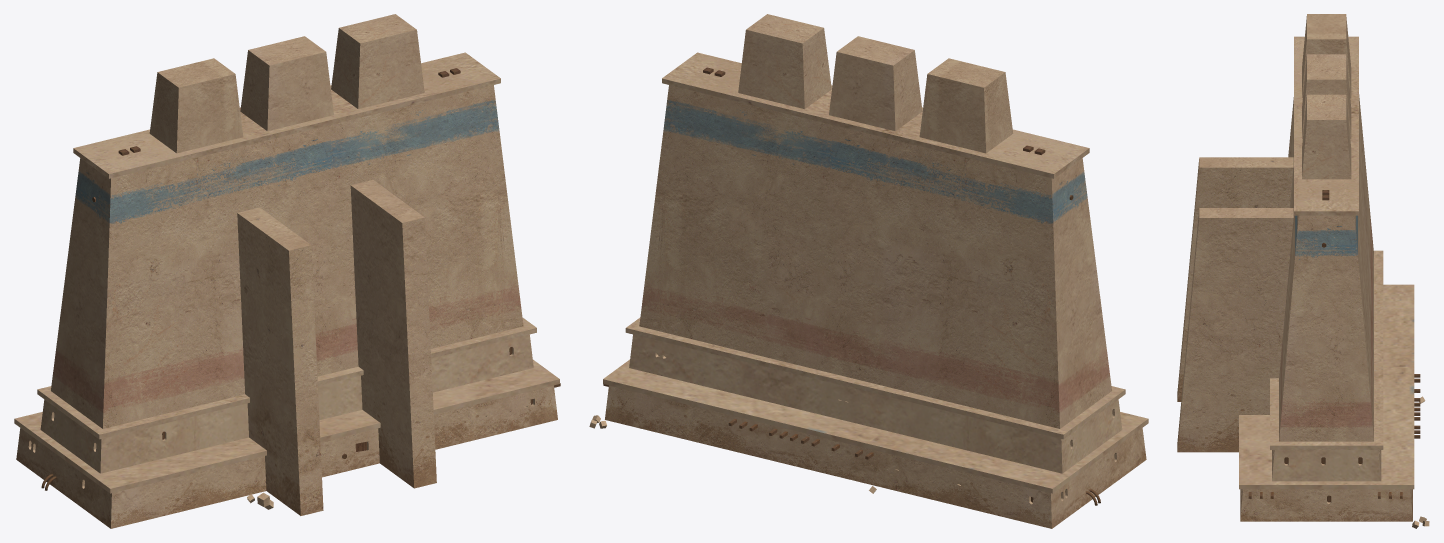
Rendered from Edificio 1.fbx.
The picture shows the model from 3 angles, left to right: view 1: azimuth 30°, elevation 25°; view 2: azimuth 150°, elevation 25°; view 3: azimuth 270°, elevation 25°; orthographic projection. The views are drawn at different scales.
Visible parts, largest first — view 1: building17; view 2: building17; view 3: building17.
Part boxes in pixels (<box>): building17: <box>14,14,560,528</box>; building17: <box>589,14,1148,528</box>; building17: <box>1177,14,1429,528</box>.
Size of the model in its own units: 4122 by 3322 by 2109.
